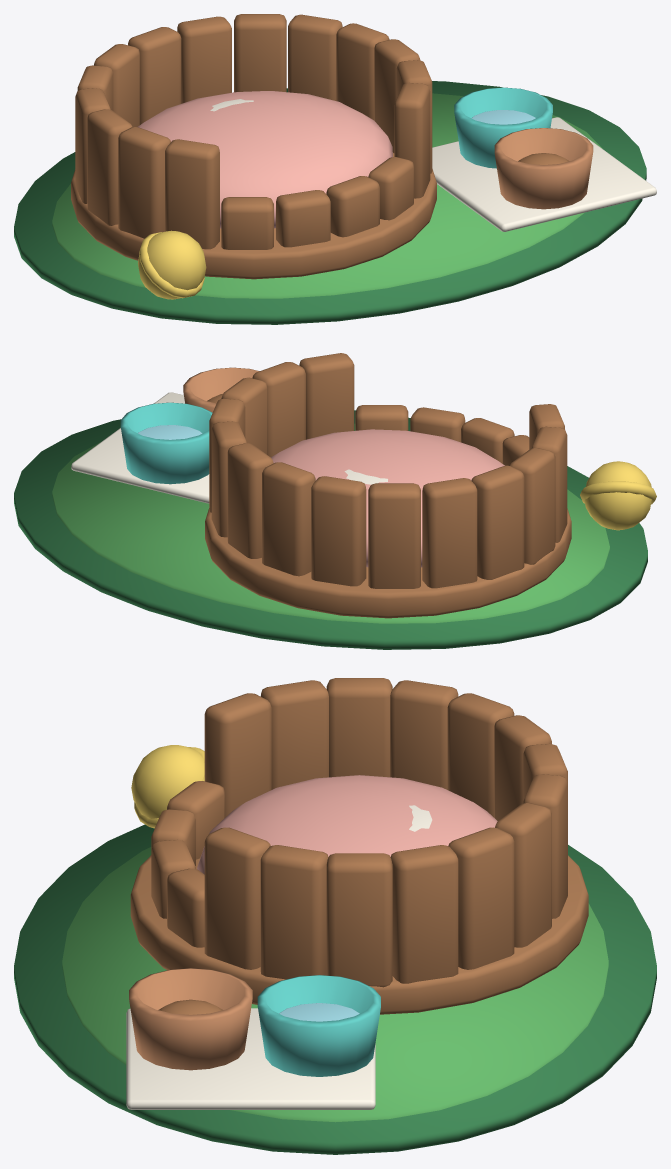
The model's file is pet-bed.glb.
3 views of the same model, one above another, from view 1: azimuth 30°, elevation 25°; view 2: azimuth 150°, elevation 25°; view 3: azimuth 270°, elevation 25° (orthographic). The views are drawn at different scales.
Visible parts, largest first — view 1: IntPetBed_WoodBasket, IntPetBed_DeepRugTrim, IntPetBed_PeachCushion, IntPetBed_LeafRug, IntPetBed_CreamMatPillow, IntPetBed_FoodBowl, IntPetBed_WaterBowl, IntPetBed_YarnToy, IntPetBed_Water; view 2: IntPetBed_WoodBasket, IntPetBed_DeepRugTrim, IntPetBed_LeafRug, IntPetBed_PeachCushion, IntPetBed_WaterBowl, IntPetBed_YarnToy, IntPetBed_CreamMatPillow, IntPetBed_FoodBowl, IntPetBed_Water; view 3: IntPetBed_WoodBasket, IntPetBed_DeepRugTrim, IntPetBed_LeafRug, IntPetBed_PeachCushion, IntPetBed_CreamMatPillow, IntPetBed_FoodBowl, IntPetBed_WaterBowl, IntPetBed_YarnToy, IntPetBed_Water.
Boxes of the visible parts, x1,y1,x2,y2 form: IntPetBed_WoodBasket: (71,14,569,279); IntPetBed_DeepRugTrim: (14,81,646,324); IntPetBed_PeachCushion: (137,91,392,228); IntPetBed_LeafRug: (52,93,602,298); IntPetBed_CreamMatPillow: (210,99,656,231); IntPetBed_FoodBowl: (494,128,593,209); IntPetBed_WaterBowl: (454,87,552,168); IntPetBed_YarnToy: (138,230,206,299); IntPetBed_Water: (471,110,535,124); IntPetBed_WoodBasket: (205,353,571,618); IntPetBed_DeepRugTrim: (14,410,647,649); IntPetBed_LeafRug: (52,423,609,623); IntPetBed_PeachCushion: (271,429,504,567); IntPetBed_WaterBowl: (120,402,212,484); IntPetBed_YarnToy: (580,461,656,530); IntPetBed_CreamMatPillow: (71,392,387,503); IntPetBed_FoodBowl: (183,367,259,412); IntPetBed_Water: (138,425,202,439); IntPetBed_WoodBasket: (130,678,588,1014); IntPetBed_DeepRugTrim: (14,824,656,1154); IntPetBed_LeafRug: (62,847,608,1122); IntPetBed_PeachCushion: (197,775,497,874); IntPetBed_CreamMatPillow: (126,805,432,1109); IntPetBed_FoodBowl: (129,968,252,1070); IntPetBed_WaterBowl: (257,975,380,1076); IntPetBed_YarnToy: (131,745,204,828); IntPetBed_Water: (279,1003,359,1021).
Size of the model in its own units: 1.04 by 0.23 by 0.8.
